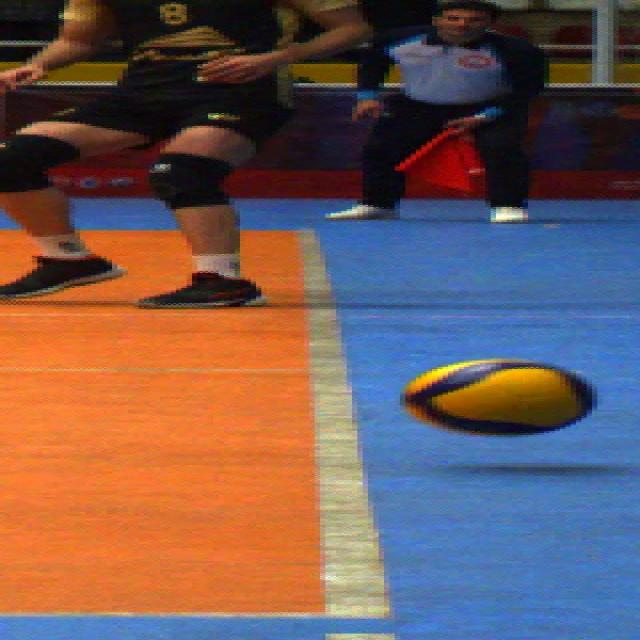Volleyball: (402, 356, 599, 437)
